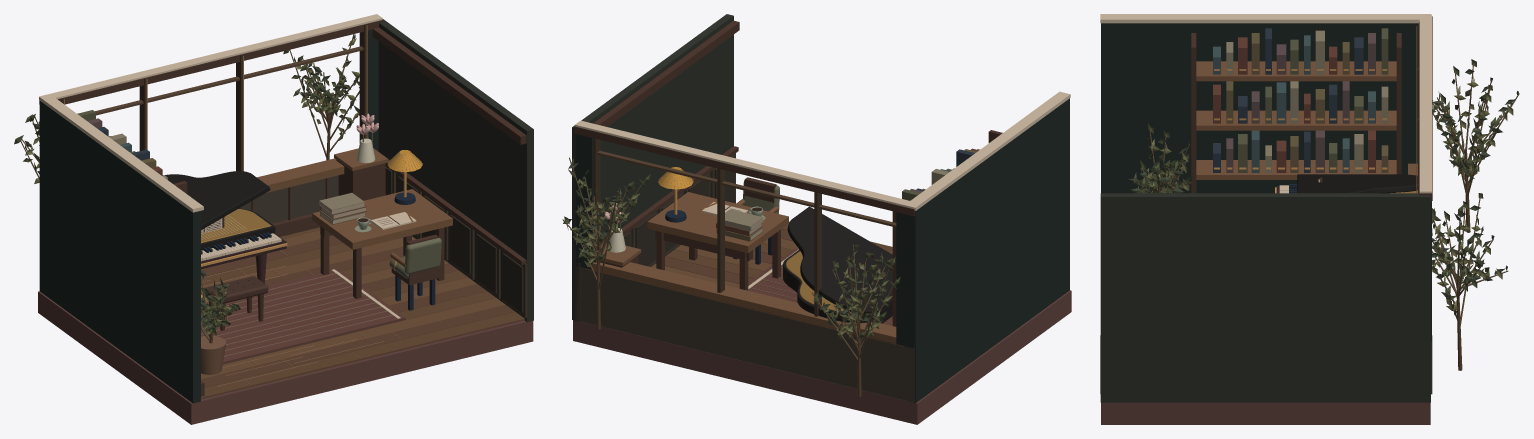
File: room.glb
3 views of the same model, side by side, from view 1: azimuth 30°, elevation 25°; view 2: azimuth 150°, elevation 25°; view 3: azimuth 270°, elevation 25° (orthographic). The views are drawn at different scales.
Visible parts, largest first — view 1: Atelier; view 2: Atelier; view 3: Atelier.
Part boxes in pixels (x1=…): Atelier: x1=14, y1=14, x2=533, y2=424; Atelier: x1=562, y1=14, x2=1071, y2=424; Atelier: x1=1100, y1=14, x2=1519, y2=424.
Size of the model in its own units: 6.26 by 3.77 by 6.17.
